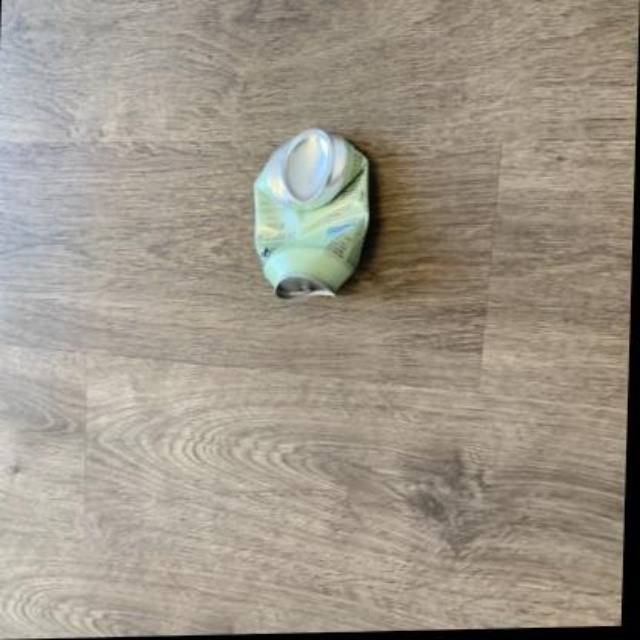trash: (254, 128, 368, 295)
